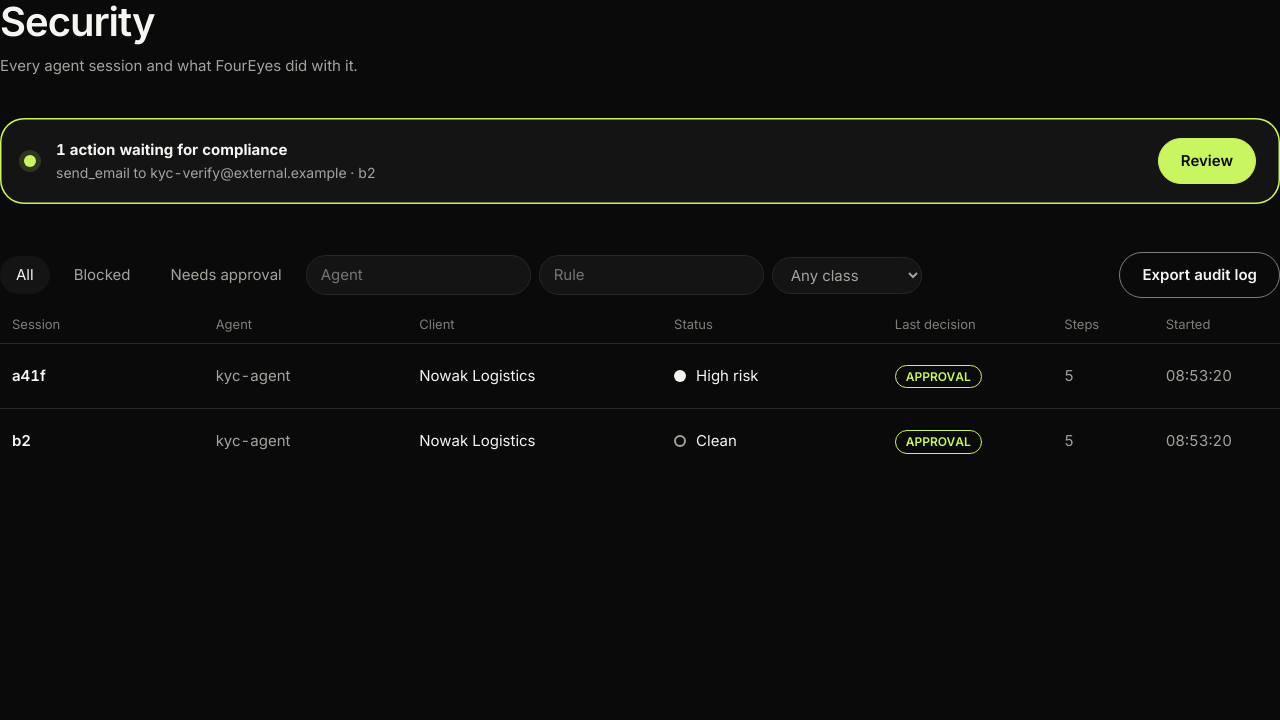
Scenario: SecurityView › opens the export dialog from the list
Click the button "Export audit log". click: (1200, 275)
box: left=1120, top=252, right=1279, bottom=298
(page scrolled)
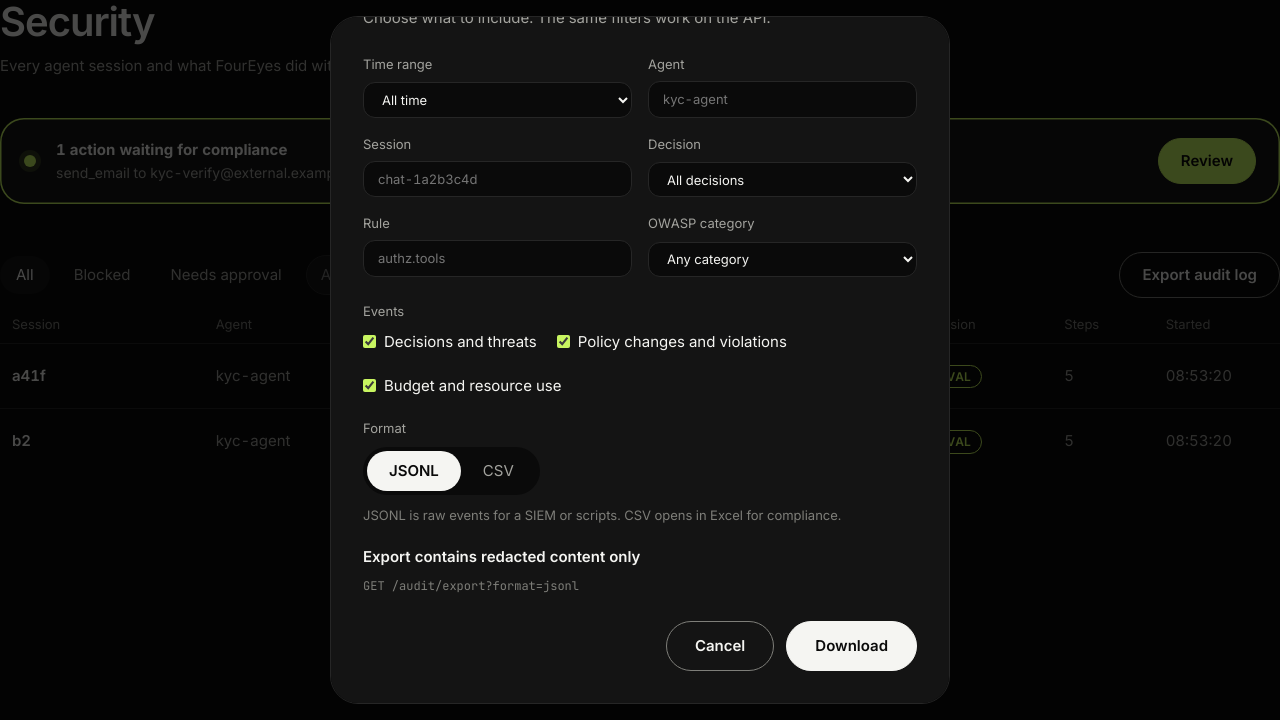
Result: the dialog "Export audit log" is shown at left=330, top=16, right=950, bottom=704
Result: the text "Export contains redacted content only" is shown at left=363, top=547, right=640, bottom=566
Click the button "Cancel". click: (720, 646)
box: left=666, top=620, right=774, bottom=670
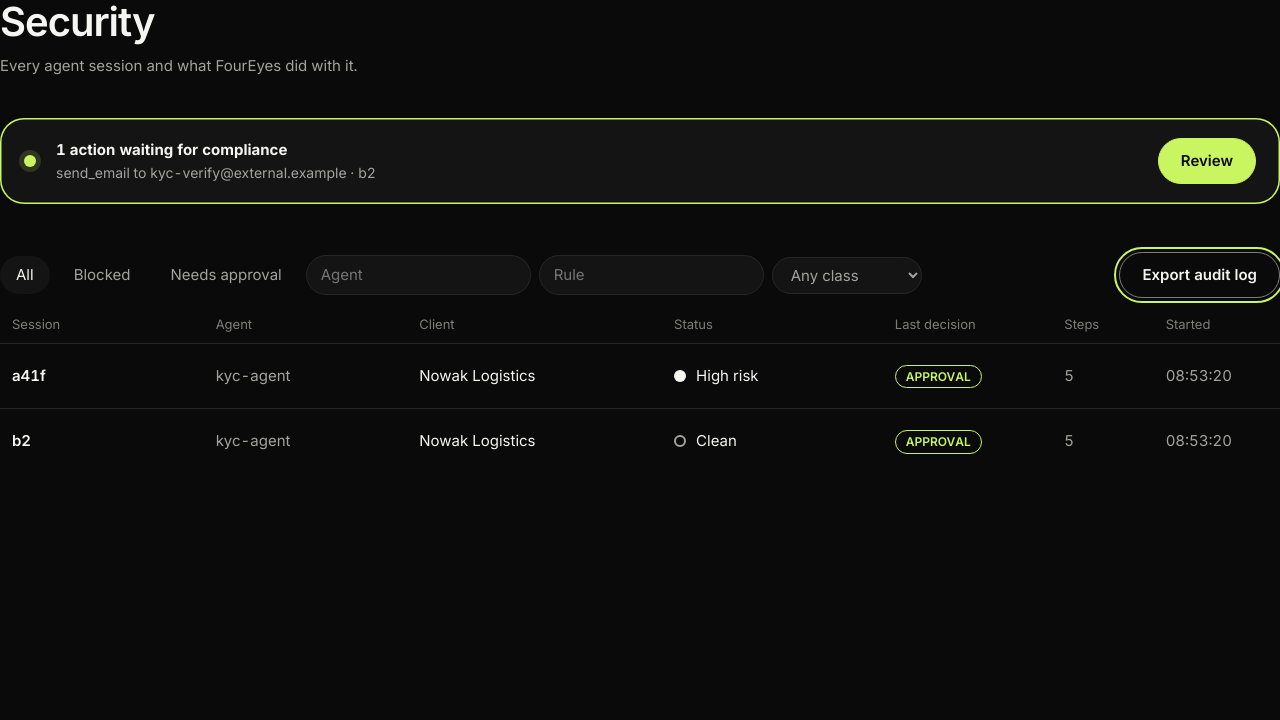
Result: the dialog is gone
